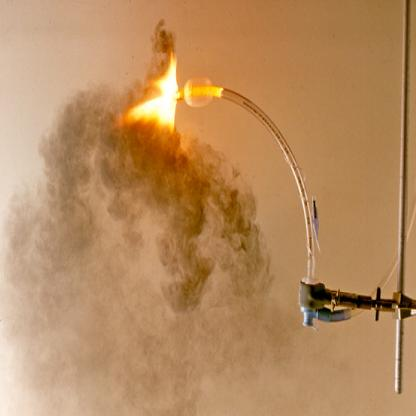fire: (117, 42, 210, 141)
smoke: (0, 46, 297, 416)
